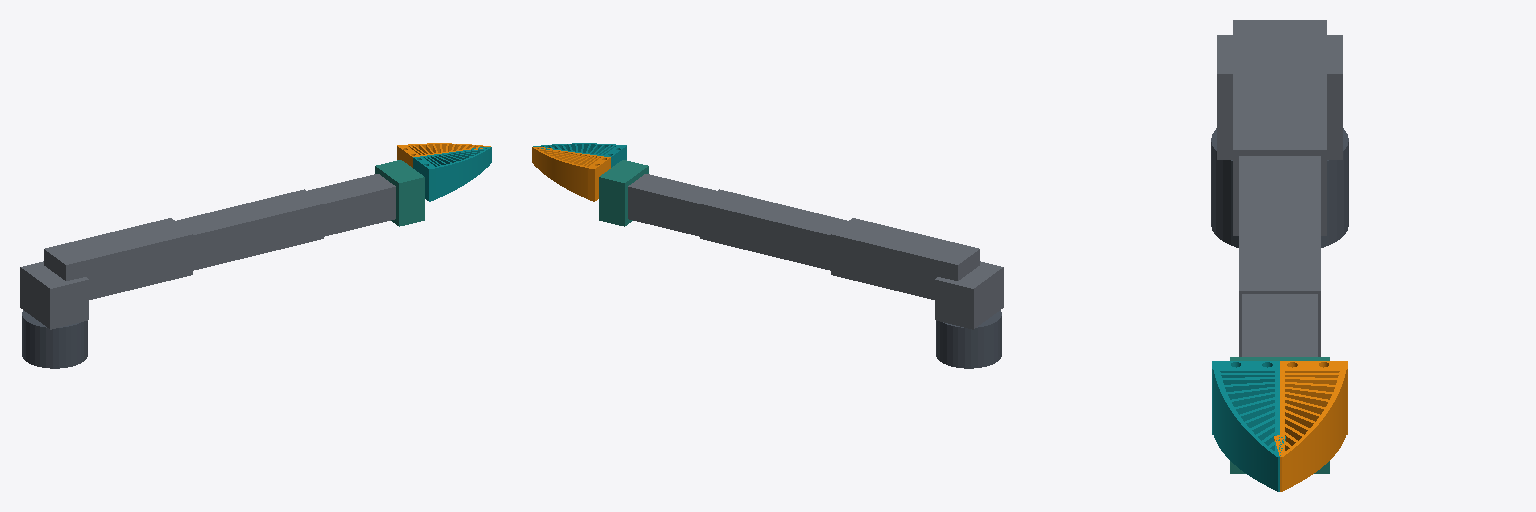
robot.urdf — so101_gripper_forge:
<?xml version="1.0"?>
<!--
  SO-101 arm + Gripper Forge compliant fingers.

  This is a self-contained kinematic model of the SO-101 arm (shoulder_pan,
  shoulder_lift, elbow_flex, wrist_flex, wrist_roll, gripper) whose finger
  meshes are the compliant fingers exported by Gripper Forge.

  Notes
  - The arm LINK DIMENSIONS in this file are APPROXIMATE (see README). The
    official SO-101 URDF lives in a gated repository; run inject_gripper_forge.py
    on the official file to get an exact model with the same fingers.
  - The two finger links carry the real Gripper Forge geometry:
      meshes/so101_finger_universal.stl
    The left finger is a 180deg turn of the export, the right finger a mirror,
    so the two contact faces point at each other across the grasp axis.
  - Joints are named to match the SO-101 control conventions.
-->
<robot name="so101_gripper_forge">

  <material name="base"><color rgba="0.35 0.38 0.42 1"/></material>
  <material name="arm"><color rgba="0.45 0.47 0.50 1"/></material>
  <material name="mount"><color rgba="0.2 0.55 0.5 1"/></material>
  <material name="tpu_left"><color rgba="0.96 0.58 0.09 1"/></material>
  <material name="tpu_right"><color rgba="0.1 0.6 0.62 1"/></material>

  <!-- ============================ base + arm ============================ -->

  <link name="base_link">
    <inertial>
      <mass value="0.45"/>
      <inertia ixx="0.0009" ixy="0" ixz="0" iyy="0.0009" iyz="0" izz="0.0004"/>
    </inertial>
    <visual>
      <geometry><cylinder radius="0.022" length="0.030"/></geometry>
      <material name="base"><color rgba="0.35 0.38 0.42 1"/></material>
    </visual>
    <collision>
      <geometry><cylinder radius="0.022" length="0.030"/></geometry>
    </collision>
  </link>

  <joint name="shoulder_pan" type="revolute">
    <parent link="base_link"/>
    <child link="shoulder"/>
    <origin xyz="0 0 0.030" rpy="0 0 0"/>
    <axis xyz="0 0 1"/>
    <limit lower="-3.1416" upper="3.1416" effort="1.5" velocity="2.0"/>
  </joint>

  <link name="shoulder">
    <inertial>
      <mass value="0.12"/>
      <inertia ixx="0.0002" ixy="0" ixz="0" iyy="0.0002" iyz="0" izz="0.0001"/>
    </inertial>
    <visual>
      <geometry><box size="0.030 0.040 0.030"/></geometry>
      <material name="arm"><color rgba="0.45 0.47 0.5 1"/></material>
    </visual>
    <collision>
      <geometry><box size="0.030 0.040 0.030"/></geometry>
    </collision>
  </link>

  <joint name="shoulder_lift" type="revolute">
    <parent link="shoulder"/>
    <child link="upper_arm"/>
    <origin xyz="0.0 0 0.012" rpy="0 0 0"/>
    <axis xyz="0 1 0"/>
    <limit lower="-2.1" upper="2.1" effort="1.5" velocity="2.0"/>
  </joint>

  <link name="upper_arm">
    <inertial>
      <mass value="0.20"/>
      <inertia ixx="0.0004" ixy="0" ixz="0" iyy="0.0004" iyz="0" izz="0.0001"/>
    </inertial>
    <visual>
      <geometry><box size="0.098 0.030 0.030"/></geometry>
      <origin xyz="0.049 0 0" rpy="0 0 0"/>
      <material name="arm"/>
    </visual>
    <collision>
      <geometry><box size="0.098 0.030 0.030"/></geometry>
      <origin xyz="0.049 0 0" rpy="0 0 0"/>
    </collision>
  </link>

  <joint name="elbow_flex" type="revolute">
    <parent link="upper_arm"/>
    <child link="forearm"/>
    <origin xyz="0.098 0 0" rpy="0 0 0"/>
    <axis xyz="0 1 0"/>
    <limit lower="-2.4" upper="2.4" effort="1.5" velocity="2.0"/>
  </joint>

  <link name="forearm">
    <inertial>
      <mass value="0.18"/>
      <inertia ixx="0.0004" ixy="0" ixz="0" iyy="0.0004" iyz="0" izz="0.0001"/>
    </inertial>
    <visual>
      <geometry><box size="0.102 0.026 0.026"/></geometry>
      <origin xyz="0.051 0 0" rpy="0 0 0"/>
      <material name="arm"/>
    </visual>
    <collision>
      <geometry><box size="0.102 0.026 0.026"/></geometry>
      <origin xyz="0.051 0 0" rpy="0 0 0"/>
    </collision>
  </link>

  <joint name="wrist_flex" type="revolute">
    <parent link="forearm"/>
    <child link="wrist"/>
    <origin xyz="0.102 0 0" rpy="0 0 0"/>
    <axis xyz="0 1 0"/>
    <limit lower="-1.9" upper="1.9" effort="1.0" velocity="2.0"/>
  </joint>

  <link name="wrist">
    <inertial>
      <mass value="0.08"/>
      <inertia ixx="0.0001" ixy="0" ixz="0" iyy="0.0001" iyz="0" izz="0.00005"/>
    </inertial>
    <visual>
      <geometry><box size="0.044 0.024 0.024"/></geometry>
      <origin xyz="0.022 0 0" rpy="0 0 0"/>
      <material name="arm"/>
    </visual>
    <collision>
      <geometry><box size="0.044 0.024 0.024"/></geometry>
      <origin xyz="0.022 0 0" rpy="0 0 0"/>
    </collision>
  </link>

  <joint name="wrist_roll" type="revolute">
    <parent link="wrist"/>
    <child link="wrist_roll"/>
    <origin xyz="0.044 0 0" rpy="0 0 0"/>
    <axis xyz="0 0 1"/>
    <limit lower="-3.1416" upper="3.1416" effort="1.0" velocity="2.0"/>
  </joint>

  <link name="wrist_roll">
    <inertial>
      <mass value="0.06"/>
      <inertia ixx="0.00006" ixy="0" ixz="0" iyy="0.00006" iyz="0" izz="0.00006"/>
    </inertial>
    <visual>
      <geometry><box size="0.024 0.024 0.024"/></geometry>
      <material name="arm"/>
    </visual>
    <collision>
      <geometry><box size="0.024 0.024 0.024"/></geometry>
    </collision>
  </link>

  <!-- ============================ gripper ============================ -->

  <!-- The gripper mount bolts to the wrist roll. The fingers mount on its
       face at x = GRIP_X. -->
  <link name="gripper_mount">
    <inertial>
      <mass value="0.05"/>
      <inertia ixx="0.00004" ixy="0" ixz="0" iyy="0.00004" iyz="0" izz="0.00004"/>
    </inertial>
    <visual>
      <geometry><box size="0.020 0.032 0.032"/></geometry>
      <origin xyz="0.010 0 0" rpy="0 0 0"/>
      <material name="mount"><color rgba="0.2 0.55 0.5 1"/></material>
    </visual>
    <collision>
      <geometry><box size="0.020 0.032 0.032"/></geometry>
      <origin xyz="0.010 0 0" rpy="0 0 0"/>
    </collision>
  </link>

  <joint name="gripper_mount_joint" type="fixed">
    <parent link="wrist_roll"/>
    <child link="gripper_mount"/>
    <origin xyz="0.012 0 0" rpy="0 0 0"/>
  </joint>

  <!-- Left finger. Positive gripper joint value opens the jaw (moves +y). -->
  <link name="gripper_left_finger">
    <inertial>
      <mass value="0.012"/>
      <inertia ixx="0.00002" ixy="0" ixz="0" iyy="0.00002" iyz="0" izz="0.00001"/>
    </inertial>
    <visual>
      <geometry>
        <mesh filename="meshes/so101_finger_universal.stl" scale="0.001 0.001 0.001"/>
      </geometry>
      <!-- The export is in the mount frame (base +x, tip -x, contact +y).
           Turn it 180deg so the tip points forward (+x) and the contact face
           points toward the grasp axis (-y). -->
      <origin xyz="0.0095 0 0" rpy="0 0 3.141592653589793"/>
      <material name="tpu_left"><color rgba="0.96 0.58 0.09 1"/></material>
    </visual>
    <collision>
      <geometry>
        <mesh filename="meshes/so101_finger_universal.stl" scale="0.001 0.001 0.001"/>
      </geometry>
      <origin xyz="0.0095 0 0" rpy="0 0 3.141592653589793"/>
    </collision>
  </link>

  <joint name="gripper" type="prismatic">
    <parent link="gripper_mount"/>
    <child link="gripper_left_finger"/>
    <origin xyz="0.020 0.0099 0" rpy="0 0 0"/>
    <axis xyz="0 1 0"/>
    <limit lower="0" upper="0.020" effort="2.0" velocity="0.5"/>
  </joint>

  <!-- Right finger. Mirrored geometry; mimics the gripper joint in reverse so
       the two jaws open and close symmetrically. -->
  <link name="gripper_right_finger">
    <inertial>
      <mass value="0.012"/>
      <inertia ixx="0.00002" ixy="0" ixz="0" iyy="0.00002" iyz="0" izz="0.00001"/>
    </inertial>
    <visual>
      <geometry>
        <mesh filename="meshes/so101_finger_universal_right.stl" scale="0.001 0.001 0.001"/>
      </geometry>
      <origin xyz="0.0095 0 0" rpy="0 0 0"/>
      <material name="tpu_right"/>
    </visual>
    <collision>
      <geometry>
        <mesh filename="meshes/so101_finger_universal_right.stl" scale="0.001 0.001 0.001"/>
      </geometry>
      <origin xyz="0.0095 0 0" rpy="0 0 0"/>
    </collision>
  </link>

  <joint name="gripper_right" type="prismatic">
    <parent link="gripper_mount"/>
    <child link="gripper_right_finger"/>
    <origin xyz="0.020 -0.0099 0" rpy="0 0 0"/>
    <axis xyz="0 1 0"/>
    <mimic joint="gripper" multiplier="-1" offset="0"/>
    <limit lower="0" upper="0.020" effort="2.0" velocity="0.5"/>
  </joint>

</robot>

--- What the picture shows (computed from the rendered views, not written in the file) ---
3 views of the same robot in one strip: view 1: azimuth 30°, elevation 25°; view 2: azimuth 150°, elevation 25°; view 3: azimuth 270°, elevation 25° (orthographic).
Model so101_gripper_forge with 9 links and 8 joints (5 revolute, 2 prismatic, 1 fixed), rooted at base_link, posed every joint at zero.
Links seen in each view (by area): view 1: upper_arm, forearm, shoulder, base_link, gripper_right_finger, wrist, gripper_mount, wrist_roll, gripper_left_finger; view 2: upper_arm, forearm, shoulder, base_link, gripper_left_finger, wrist, gripper_mount, wrist_roll, gripper_right_finger; view 3: upper_arm, forearm, gripper_left_finger, gripper_right_finger, wrist, shoulder, base_link, gripper_mount.
Link boxes in pixels (box(x1,y1,x2,y2)): upper_arm: box(44, 218, 192, 299); forearm: box(176, 189, 323, 270); shoulder: box(20, 261, 88, 329); base_link: box(22, 310, 87, 368); gripper_right_finger: box(413, 147, 491, 201); wrist: box(308, 181, 379, 236); gripper_mount: box(375, 160, 424, 226); wrist_roll: box(348, 174, 395, 226); gripper_left_finger: box(397, 143, 490, 167); upper_arm: box(831, 218, 979, 299); forearm: box(700, 189, 847, 270); shoulder: box(935, 261, 1003, 329); base_link: box(936, 310, 1001, 368); gripper_left_finger: box(532, 147, 610, 201); wrist: box(643, 181, 715, 236); gripper_mount: box(599, 160, 648, 226); wrist_roll: box(628, 174, 675, 226); gripper_right_finger: box(533, 143, 626, 167); upper_arm: box(1233, 20, 1326, 235); forearm: box(1239, 156, 1320, 356); gripper_left_finger: box(1274, 361, 1347, 491); gripper_right_finger: box(1212, 361, 1285, 491); wrist: box(1242, 294, 1317, 351); shoulder: box(1217, 35, 1342, 159); base_link: box(1211, 128, 1348, 247); gripper_mount: box(1230, 357, 1329, 473).
Size in the robot's own frame: 0.358 by 0.044 by 0.081 metres.
2 mesh visuals loaded from 2 distinct referenced files (2 binary STL).
